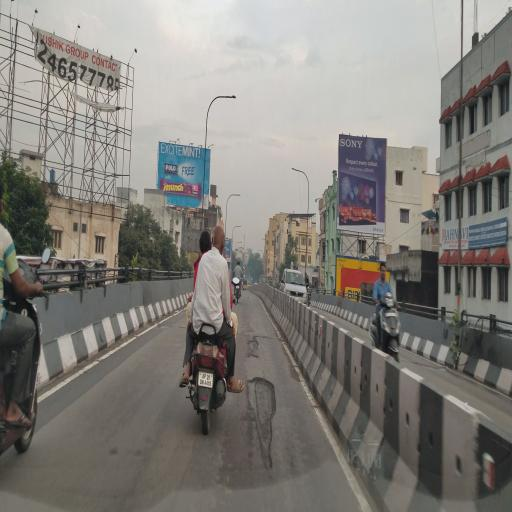street_light_0: (210, 89, 246, 108), (223, 183, 247, 209), (288, 155, 307, 186)
